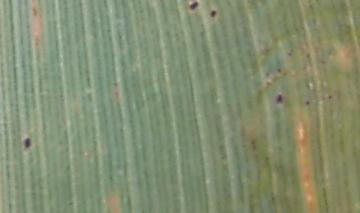tarspot: (23, 136, 31, 148), (30, 5, 38, 17), (189, 1, 199, 10), (209, 9, 217, 20), (275, 93, 282, 104), (248, 138, 256, 147), (304, 51, 311, 60), (326, 93, 333, 101), (263, 70, 270, 78), (285, 50, 292, 57), (276, 66, 281, 75), (304, 99, 309, 105)
